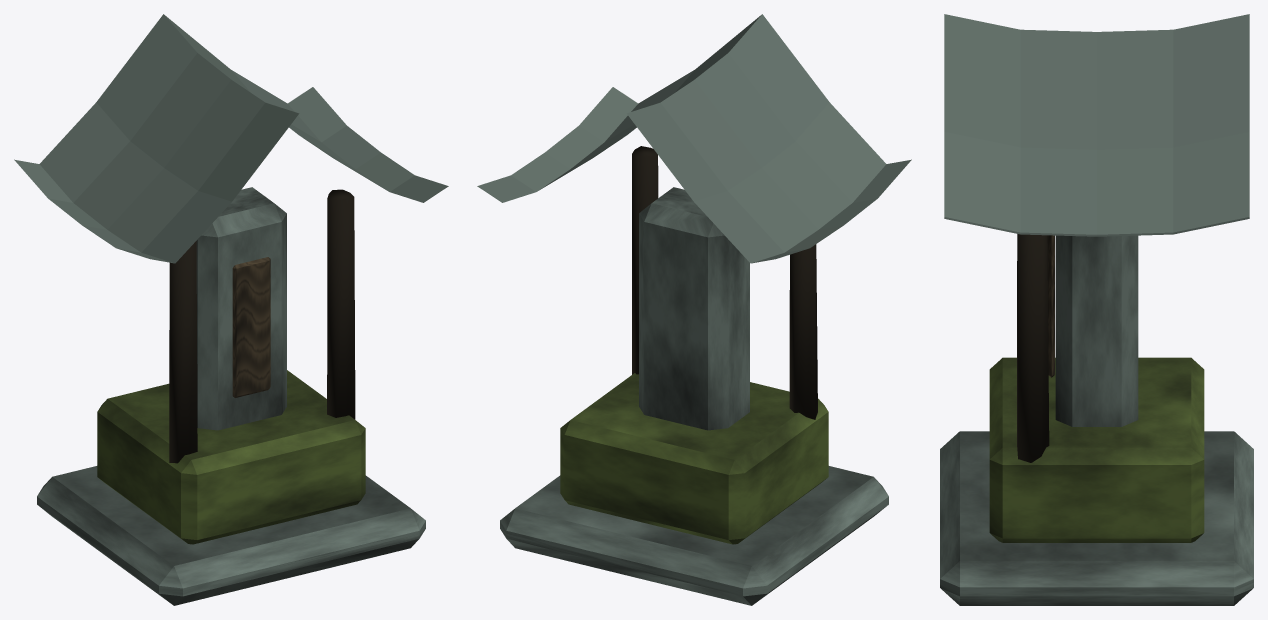
File: shrine.glb
The picture shows the model from 3 angles, left to right: view 1: azimuth 30°, elevation 25°; view 2: azimuth 150°, elevation 25°; view 3: azimuth 270°, elevation 25°; orthographic projection. The views are drawn at different scales.
Parts seen in each view (by area): view 1: shrine; view 2: shrine; view 3: shrine.
Boxes of the visible parts, x1,y1,x2,y2 form: shrine: [14, 14, 448, 605]; shrine: [477, 14, 911, 605]; shrine: [940, 14, 1253, 605].
Bounding box in the file's own units: 2.35 × 3.52 × 1.9.
4 materials, 4 textured.
